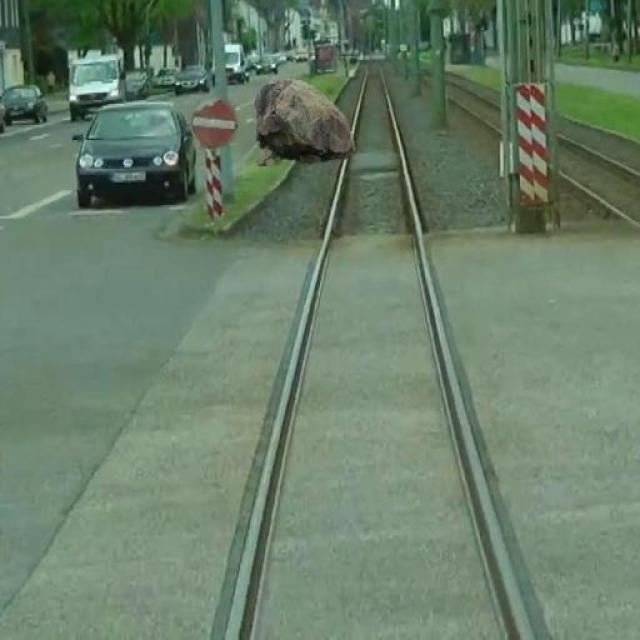Stone: (249, 75, 366, 164)
vehicle: (75, 101, 204, 208)
